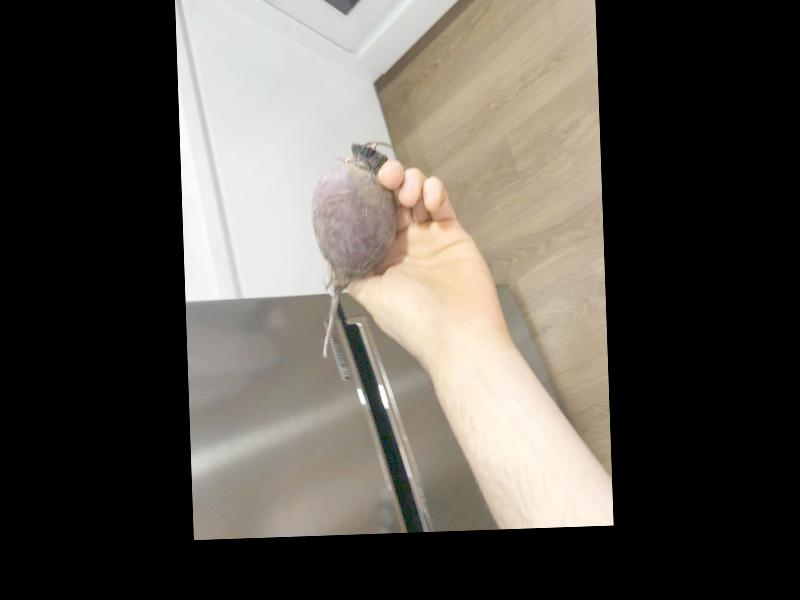Beet: (309, 139, 401, 356)
